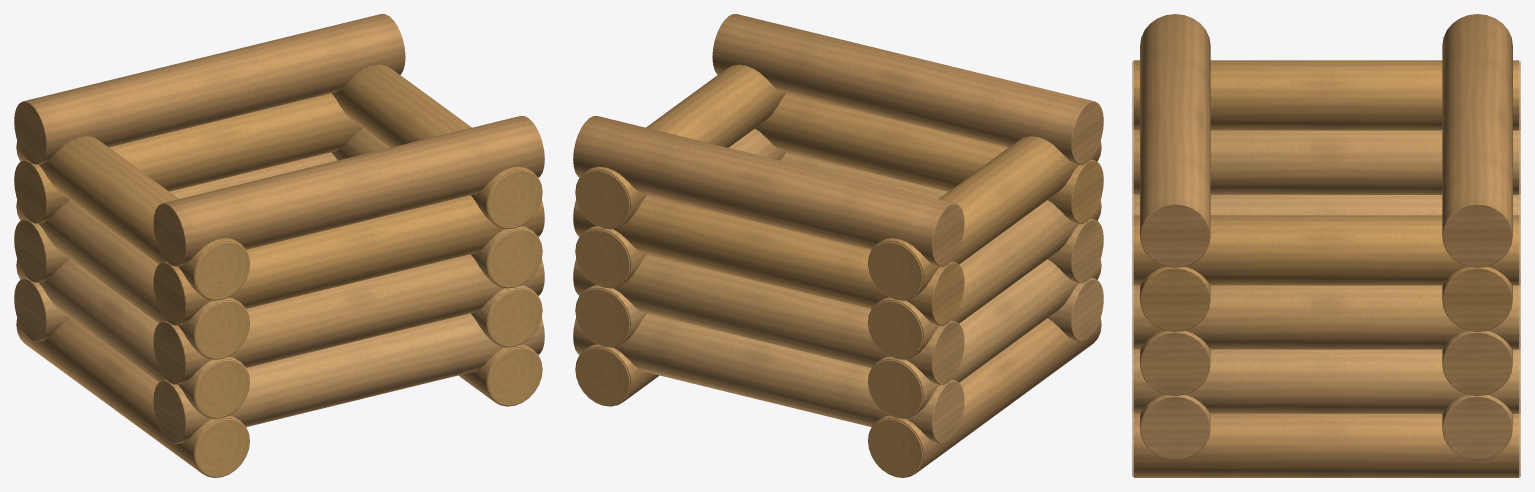
The model's file is 3-crossed-log-courses-3.fbx.
The picture shows the model from 3 angles, left to right: view 1: azimuth 30°, elevation 25°; view 2: azimuth 150°, elevation 25°; view 3: azimuth 270°, elevation 25°; orthographic projection. The views are drawn at different scales.
Visible parts, largest first — view 1: crossed-log-courses-3; view 2: crossed-log-courses-3; view 3: crossed-log-courses-3.
Part boxes in pixels (x1,y1,x2,y2): crossed-log-courses-3: [14, 14, 544, 477]; crossed-log-courses-3: [573, 14, 1103, 477]; crossed-log-courses-3: [1132, 14, 1520, 477].
Bounding box in the file's own units: 7000 × 4950 × 6042.
1 material, 1 textured.
